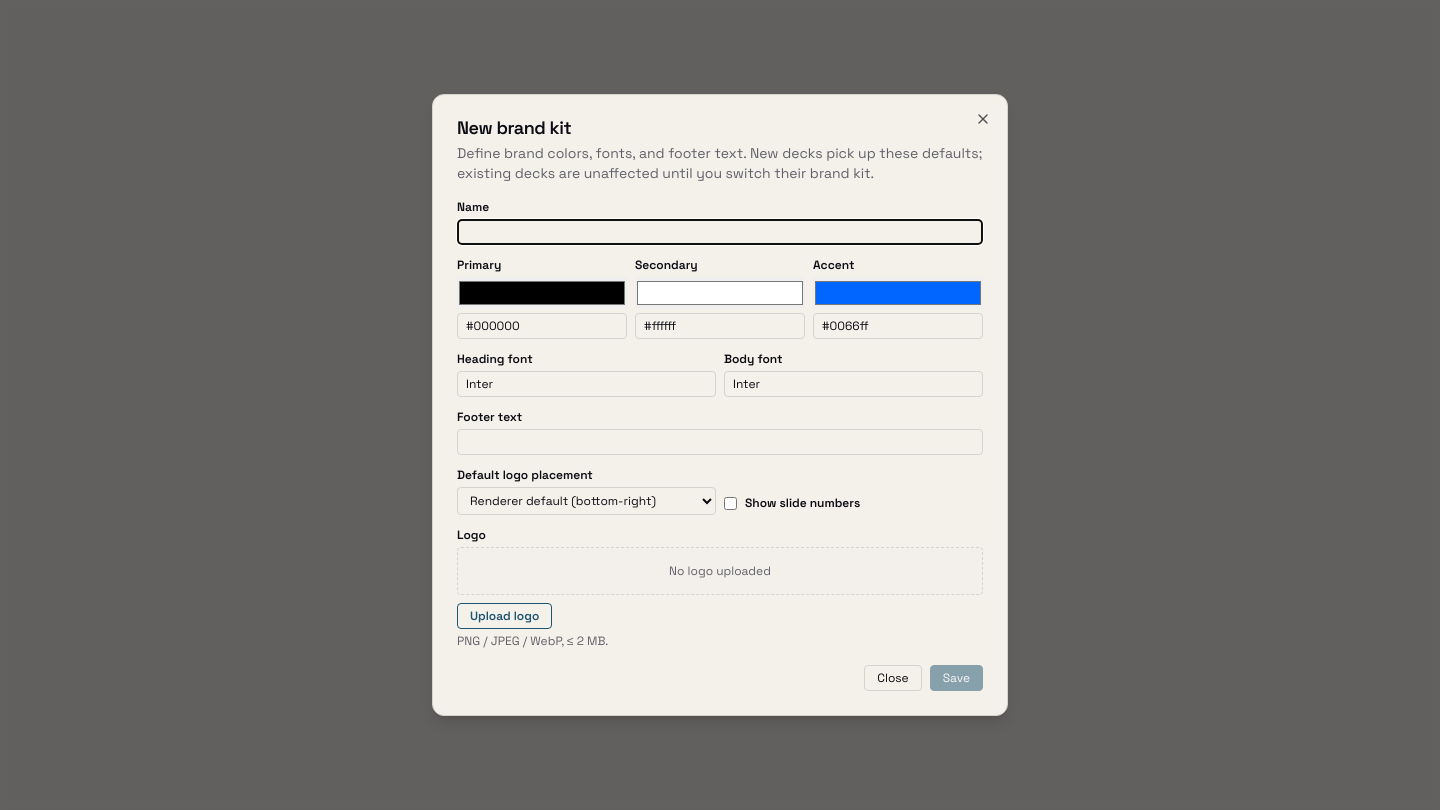
Test: BrandKitEditor › warns when selected colors have low presentation contrast
The width and height of the screenshot is (1440, 810).
In the field with test id "pitch-bk-name": (720, 232) left=457, top=219, right=983, bottom=245, type "Unreadable"
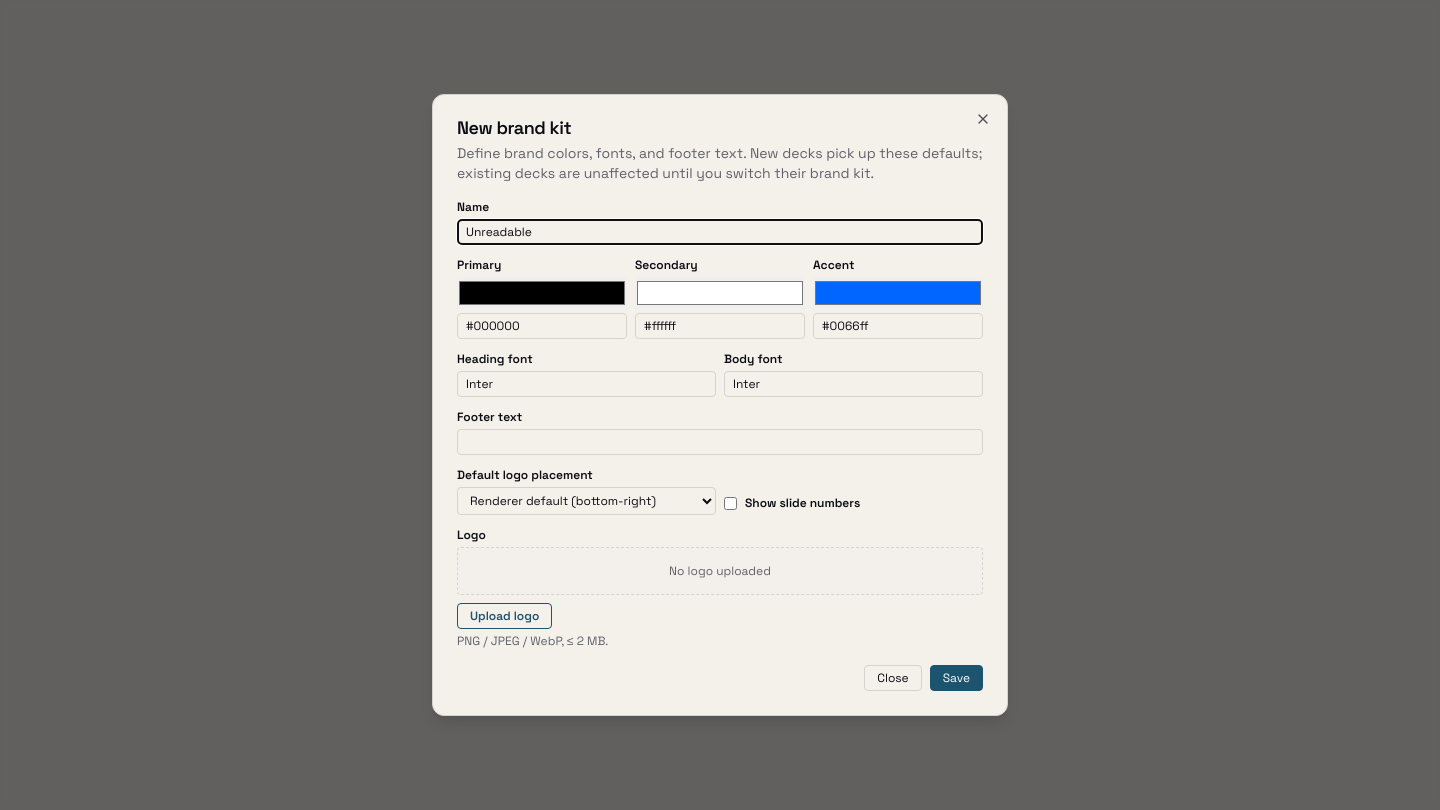
Replace the text in the field with test id "pitch-bk-primaryColor-hex" with "#111111": (542, 326) left=457, top=313, right=627, bottom=339
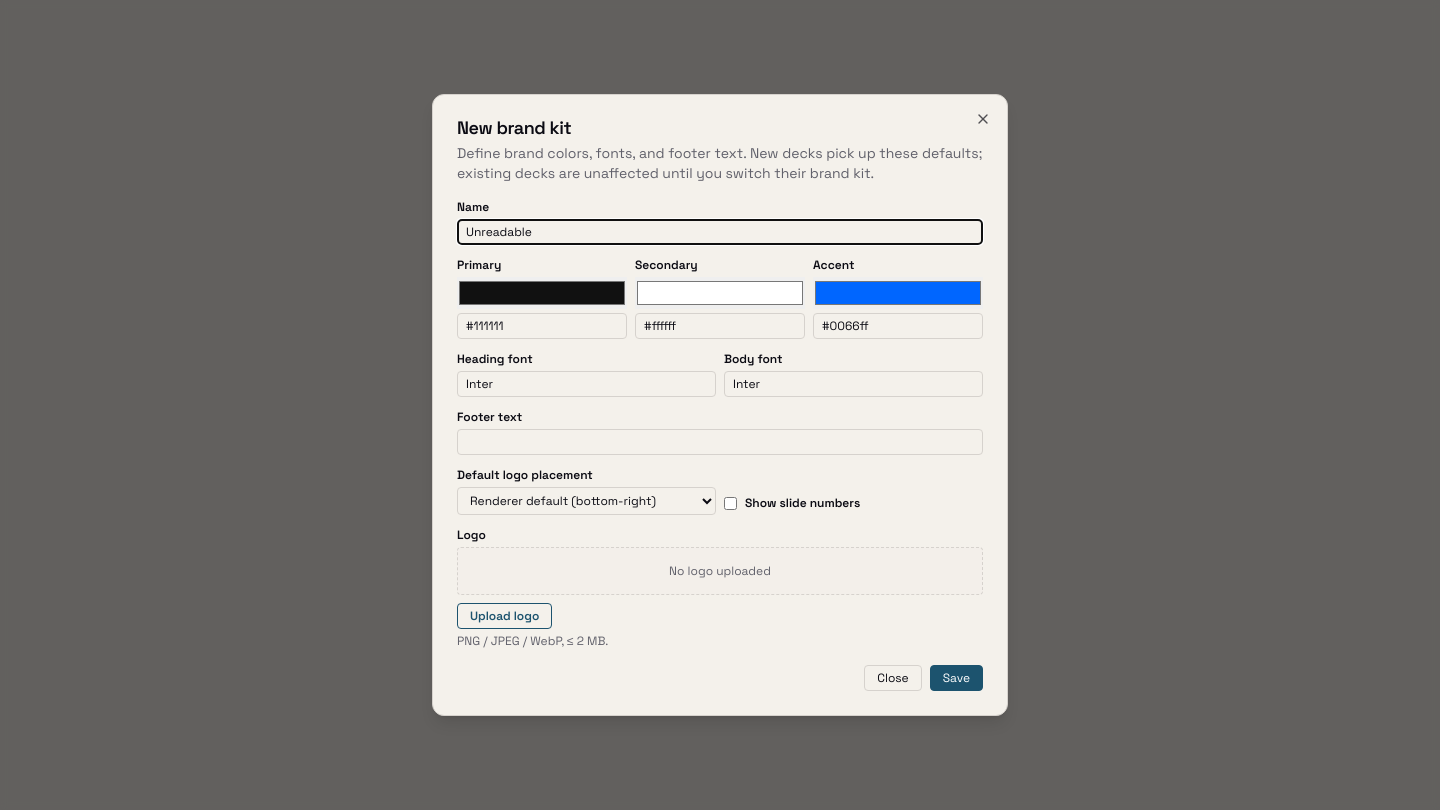
Replace the text in the field with test id "pitch-bk-secondaryColor-hex" with "#101010": (720, 326) left=635, top=313, right=805, bottom=339
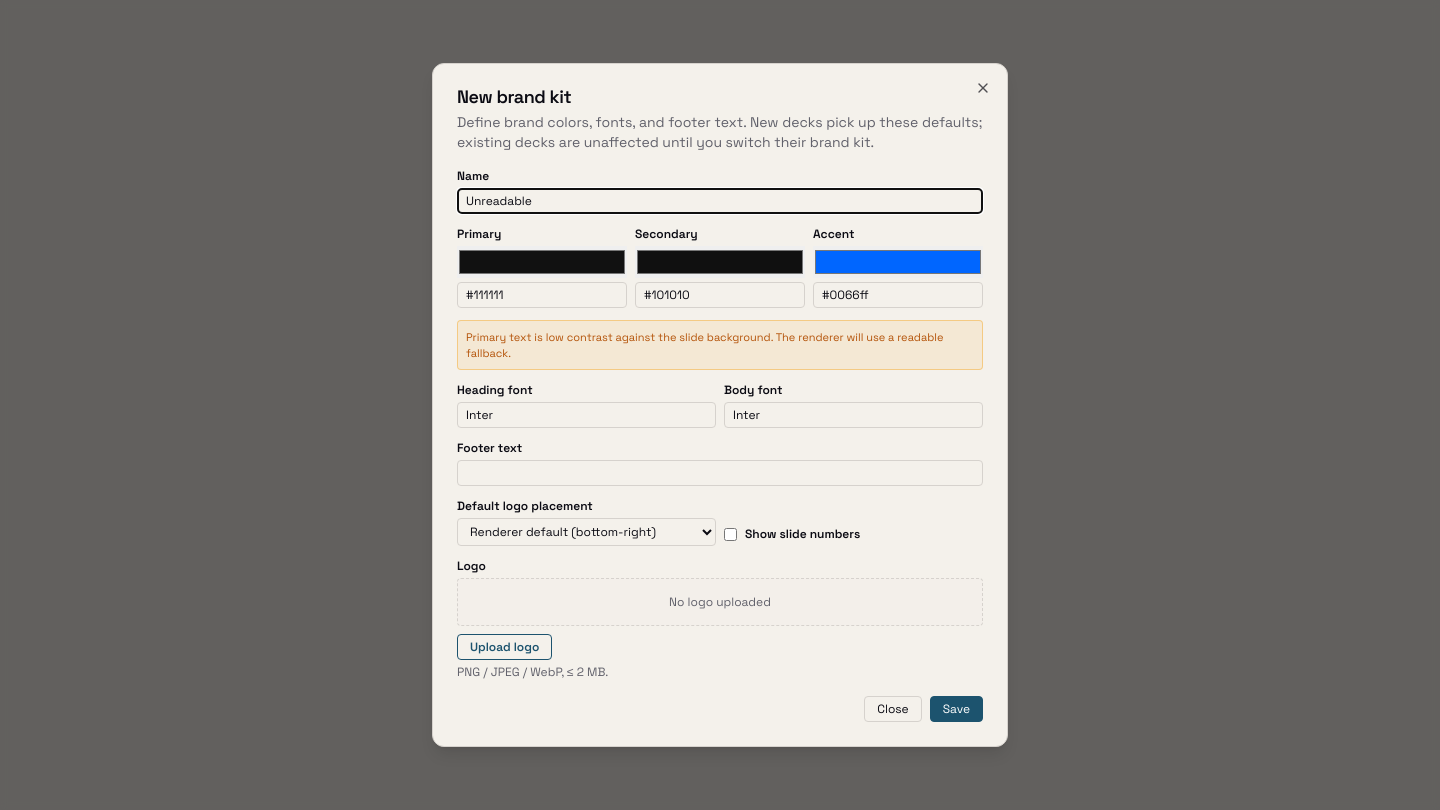
Expected: the button with test id "pitch-bk-save" is enabled, left=930, top=696, right=983, bottom=722
Expected: the text with test id "pitch-bk-contrast-warning" shows "low contrast", left=466, top=330, right=944, bottom=360
